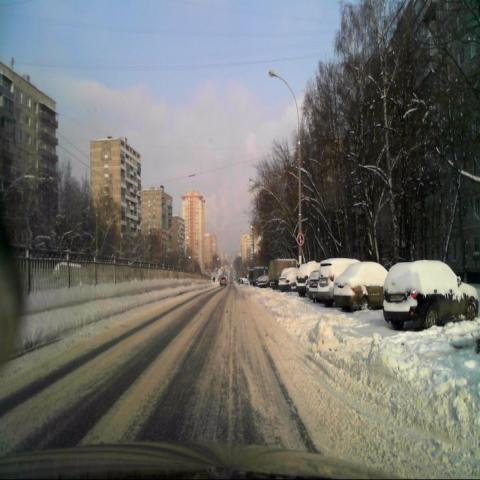3_29: (296, 232, 304, 246)
